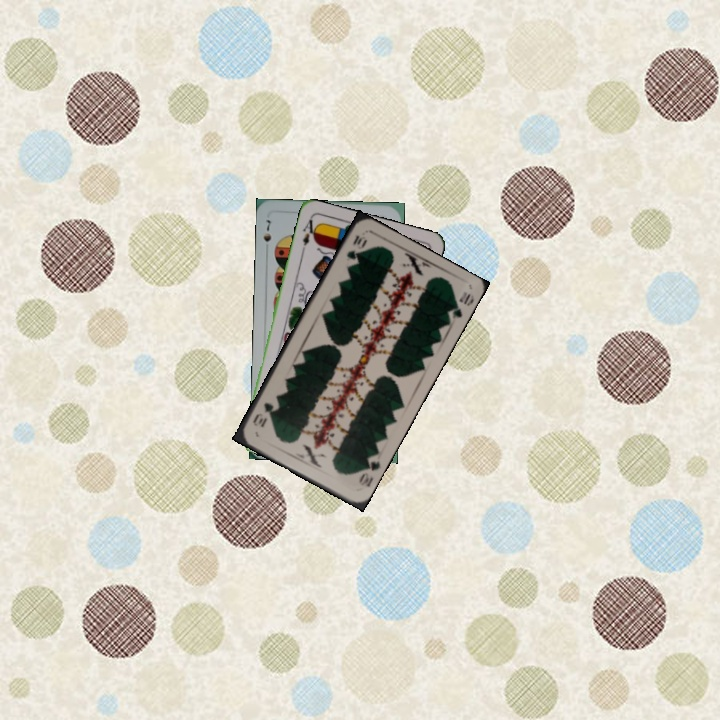EA: (298, 214, 320, 254)
G10: (354, 451, 383, 489), (342, 231, 369, 262)
S7: (259, 216, 274, 254)
